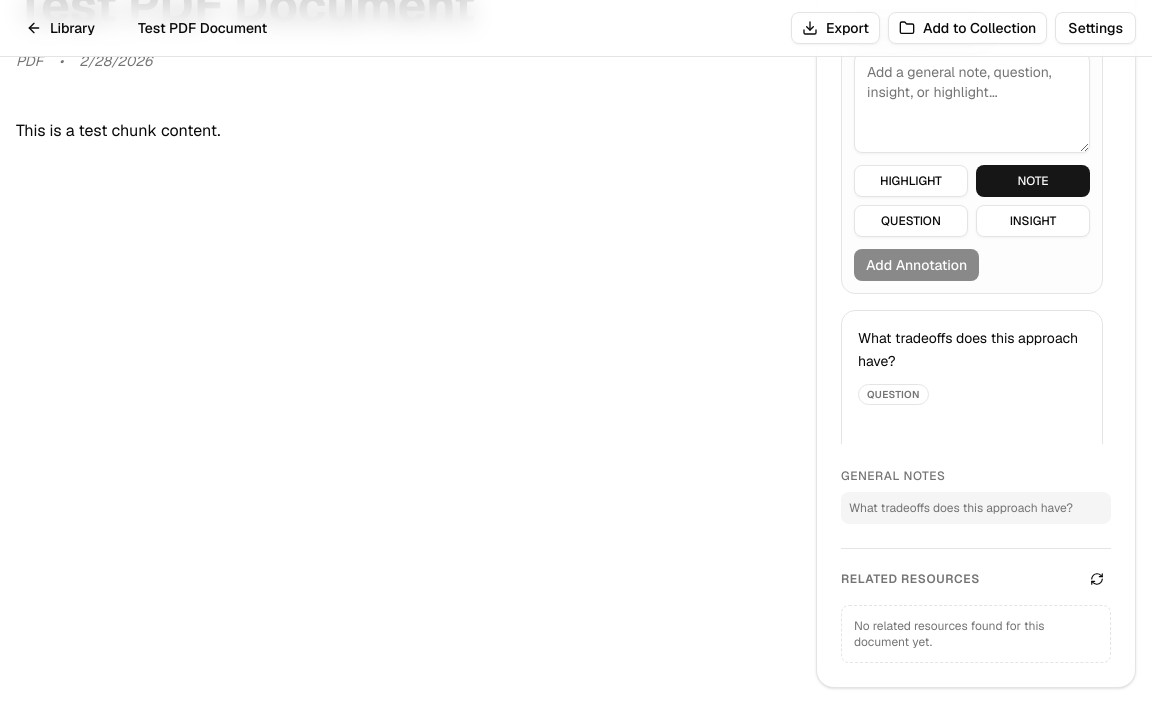
Scenario: Documents Behavior › should show empty and error states for related resources
(page scrolled)
Expected: the text "No related resources found for this document yet." is shown, [841,605,1111,663]
Click the button with test id "related-refresh": point(1097, 579) [1083,565,1111,593]
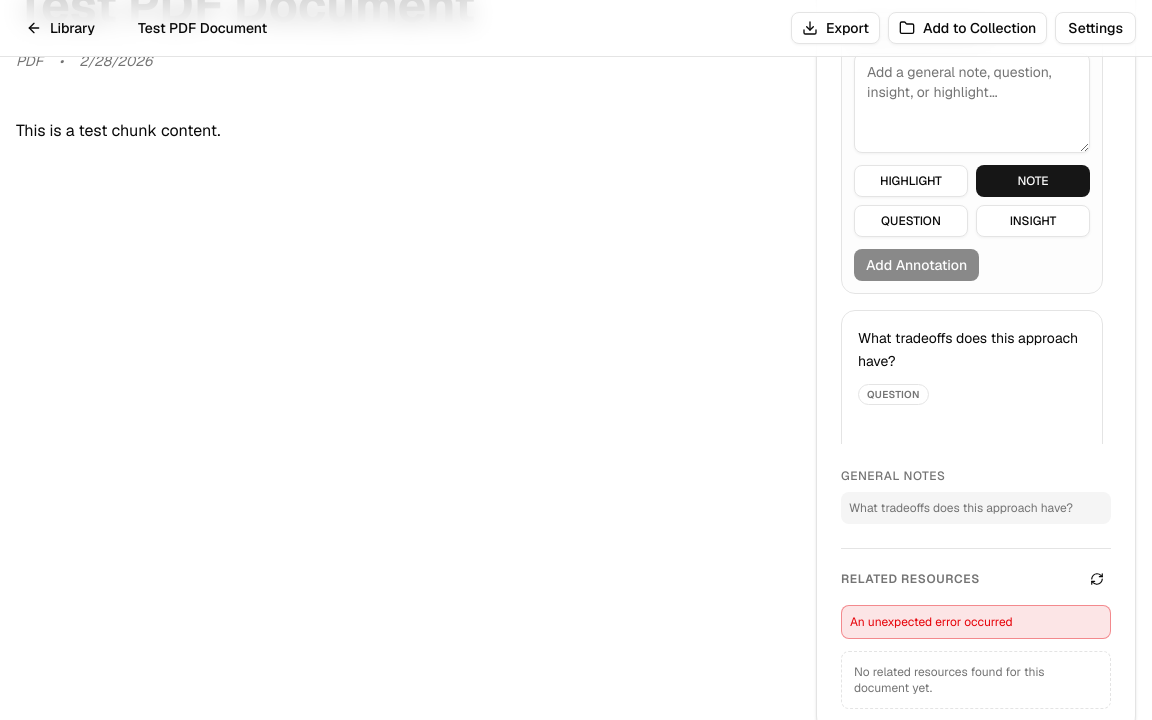
Result: the text "An unexpected error occurred" is shown at [841,605,1111,639]
